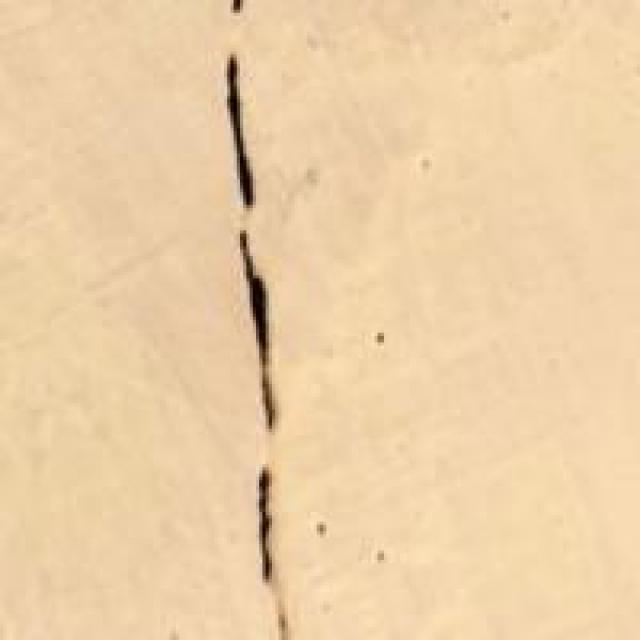crack: (147, 0, 368, 637)
